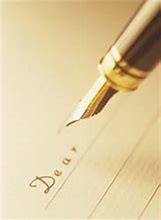pen: (65, 1, 156, 133)
